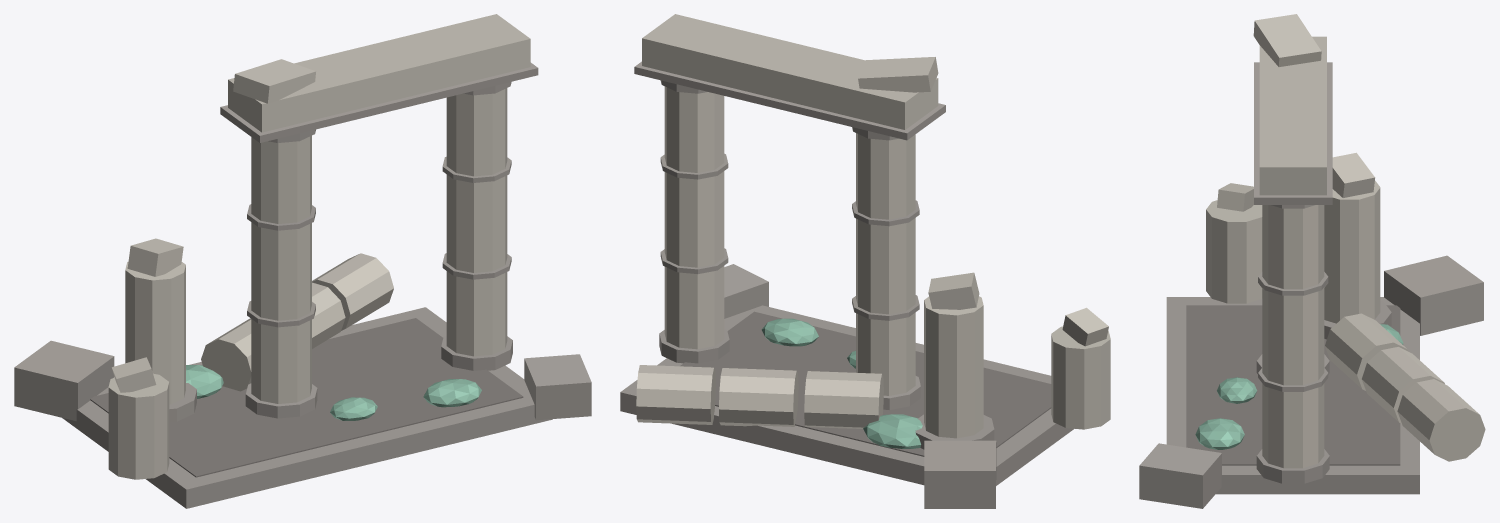
Rendered from Decor_CloudTemple_RuinColumns.fbx.
The picture shows the model from 3 angles, left to right: view 1: azimuth 30°, elevation 25°; view 2: azimuth 150°, elevation 25°; view 3: azimuth 270°, elevation 25°; orthographic projection. The views are drawn at different scales.
Parts seen in each view (by area): view 1: RuinColumns_Body; view 2: RuinColumns_Body; view 3: RuinColumns_Body.
Part boxes in pixels (x1,y1,x2,y2): RuinColumns_Body: (14,14,591,508); RuinColumns_Body: (620,14,1110,508); RuinColumns_Body: (1139,14,1485,508).
Bounding box in the file's own units: 18.45 × 14.1 × 12.37.
